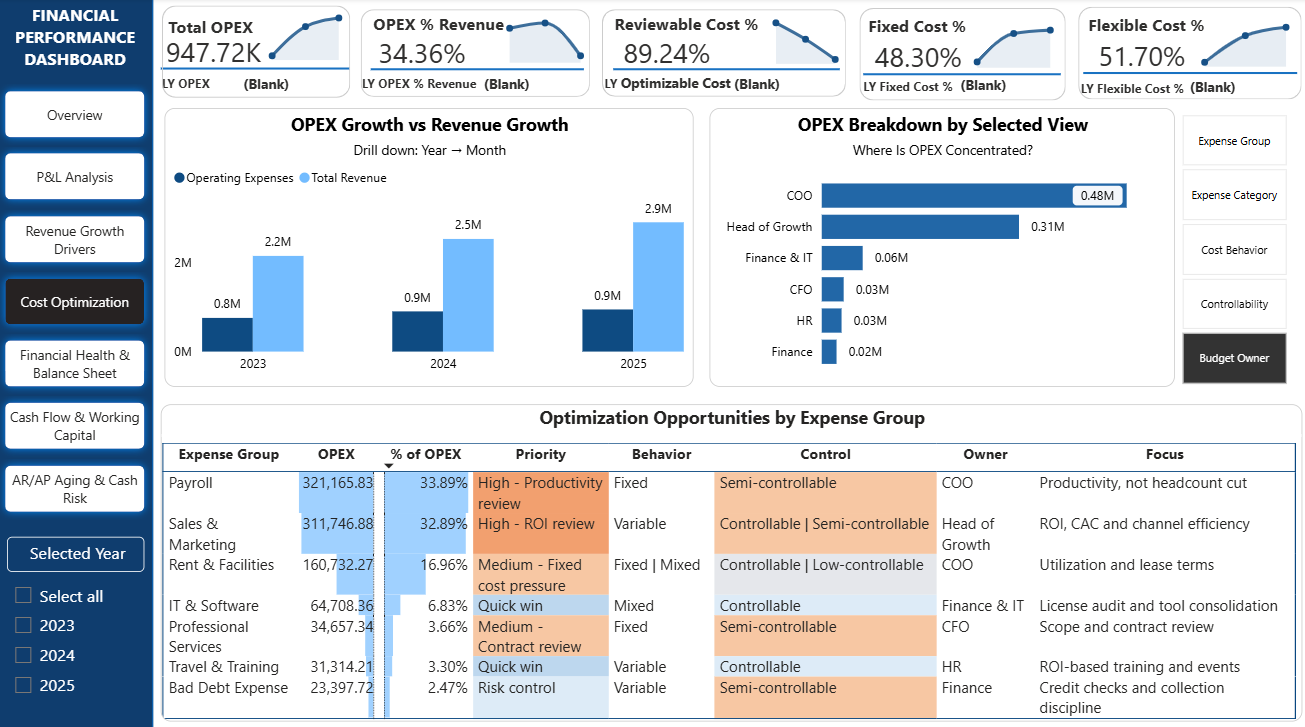

What the dashboard file says about the page in this screenshot:
{"tool":"powerbi","page":{"name":"Cost Optimization","canvas":[1280,720],"ordinal":3},"visuals":[{"type":"shape","box":[0,0,152.9,720.2],"z":0,"group":"g6"},{"type":"group","id":"g1","title":"Group 8","box":[160.2,2.4,184.6,100.3],"z":0},{"type":"textbox","box":[0,0,152.9,83.2],"z":1000,"group":"g6"},{"type":"group","id":"g2","title":"Group 8","box":[355.8,7.3,225,96.6],"z":1000},{"type":"card","fields":{"Values":["_Measures.Total OPEX Card"]},"box":[160.3,36.3,98.9,32.9],"z":1000,"group":"g7"},{"type":"card","fields":{"Values":["_Measures.OPEX % Revenue"]},"box":[357.8,39.5,110.5,31.2],"z":1000,"group":"g9"},{"type":"card","fields":{"Values":["_Measures.Controllable Cost % Card"]},"box":[593.9,39.6,117.5,31.1],"z":1000,"group":"g8"},{"type":"card","fields":{"Values":["_Measures.Flexible Cost % Card"]},"box":[1056.5,41.7,122.5,31.2],"z":1000,"group":"g10"},{"type":"card","fields":{"Values":["_Measures.Fixed Cost % Card"]},"box":[842.4,42.8,113,31.1],"z":1000,"group":"g11"},{"type":"group","id":"g3","title":"Group 8","box":[591.7,6.1,239.7,97.8],"z":2000},{"type":"textbox","box":[363,8.1,186.2,34.1],"z":2000,"group":"g9"},{"type":"textbox","box":[599.4,8.4,198,34],"z":2000,"group":"g8"},{"type":"textbox","box":[1062.2,10.4,206.3,34.1],"z":2000,"group":"g10"},{"type":"textbox","box":[847.7,11.5,190.5,34],"z":2000,"group":"g11"},{"type":"textbox","box":[163.1,11.7,160.1,32],"z":2000,"group":"g7"},{"type":"pageNavigator","box":[0,83.2,152.9,431.7],"z":2000,"group":"g6"},{"type":"group","id":"g4","title":"Group 8","box":[842.4,9.7,203.2,98.2],"z":3000},{"type":"textbox","box":[9.8,527,134.5,34.2],"z":3000,"group":"g6"},{"type":"lineChart","fields":{"Category":["Dim_Date.Year"],"Y":["_Measures.Total OPEX Card"]},"box":[253.9,2.4,90.3,58.4],"z":4000,"group":"g7"},{"type":"lineChart","fields":{"Category":["Dim_Date.Year"],"Y":["_Measures.Controllable Cost %"]},"box":[747.6,6.1,83.1,58.5],"z":4000,"group":"g8"},{"type":"lineChart","fields":{"Category":["Dim_Date.Year"],"Y":["_Measures.OPEX % Revenue"]},"box":[486.9,7.3,94.4,56.4],"z":4000,"group":"g9"},{"type":"group","id":"g5","title":"Group 8","box":[1056.5,8.6,220.1,97.8],"z":4000},{"type":"lineChart","fields":{"Category":["Dim_Date.Year"],"Y":["_Measures.Flexible Cost"]},"box":[1166.7,11.1,104.6,56.4],"z":4000,"group":"g10"},{"type":"lineChart","fields":{"Category":["Dim_Date.Year"],"Y":["_Measures.Fixed Cost %"]},"box":[944.1,12.1,96.6,56.3],"z":4000,"group":"g11"},{"type":"slicer","fields":{"Values":["Dim_Date.Year"]},"box":[9.8,569.8,134.5,150.4],"z":4000,"group":"g6"},{"type":"clusteredColumnChart","title":"OPEX Growth vs Revenue Growth","fields":{"Category":["Dim_Date.Year-Month.Variation.Date Hierarchy.Year","Dim_Date.Year-Month.Variation.Date Hierarchy.Quarter","Dim_Date.Year-Month.Variation.Date Hierarchy.Month"],"Y":["_Measures.Operating Expenses","_Measures.Total Revenue"]},"box":[163.9,107.6,517.3,272.7],"z":5000},{"type":"textbox","box":[357.6,68.4,120.7,35.6],"z":6000,"group":"g9"},{"type":"textbox","box":[593.6,68.5,128.4,35.4],"z":6000,"group":"g8"},{"type":"textbox","box":[161.4,69,108.1,32.9],"z":6000,"group":"g7"},{"type":"textbox","box":[847.1,72.5,118.6,35.5],"z":6000,"group":"g11"},{"type":"textbox","box":[1060.6,73.8,129.3,32.6],"z":6000,"group":"g10"},{"type":"slicer","fields":{"Values":["Cost Breakdown Parameter.Cost Breakdown Parameter"]},"box":[1133.6,107.6,146.7,276.4],"z":6000},{"type":"clusteredBarChart","title":"OPEX Breakdown by Selected View","fields":{"Category":["Fact_Expense.Budget Owner"],"Y":["_Measures.OPEX Breakdown Value"]},"box":[697,107.6,454.9,272.7],"z":7000},{"type":"card","fields":{"Values":["_Measures.LY Total OPEX"]},"box":[227.7,68,71.8,28.5],"z":8000,"group":"g7"},{"type":"card","fields":{"Values":["_Measures.LY OPEX % Revenue"]},"box":[454.4,68.4,87.2,29.4],"z":8000,"group":"g9"},{"type":"card","fields":{"Values":["_Measures.LY Controllable Cost %"]},"box":[696.6,68.5,92.8,29.3],"z":8000,"group":"g8"},{"type":"card","fields":{"Values":["_Measures.LY Fixed Cost %"]},"box":[933.1,70.8,63.6,25.7],"z":8000,"group":"g11"},{"type":"card","fields":{"Values":["_Measures.LY Flexible Cost %"]},"box":[1154.9,73.9,69.7,22],"z":8000,"group":"g10"},{"type":"tableEx","title":"Optimization Opportunities by Expense Group","fields":{"Values":["Fact_Expense.Expense Group","_Measures.OPEX Breakdown Value","_Measures.OPEX Contribution %","_Measures.Cost Review Priority","_Measures.Cost Behavior Display","_Measures.Controllability Display","_Measures.Budget Owner Display","_Measures.Decision Focus"]},"box":[160.2,397.4,1116.4,310.6],"z":8000},{"type":"group","id":"g6","title":"Group 1","box":[0,0,152.9,720.2],"z":9000},{"type":"card","fields":{"Values":["_Measures.Total OPEX Display"]},"box":[282.8,66.9,64.5,35.8],"z":9000,"group":"g1"},{"type":"card","fields":{"Values":["_Measures.OPEX % Revenue YoY Display"]},"box":[519,68.4,62.1,33.1],"z":9000,"group":"g2"},{"type":"card","fields":{"Values":["_Measures.Controllable Cost % Display"]},"box":[765.3,68.5,66.1,33],"z":9000,"group":"g3"},{"type":"card","fields":{"Values":["_Measures.Fixed Cost % Display"]},"box":[988.1,73.3,48.9,28.1],"z":9000,"group":"g4"},{"type":"card","fields":{"Values":["_Measures.Flexible Cost % Display"]},"box":[1214.8,77.6,52.6,23.2],"z":9000,"group":"g5"},{"type":"shape","box":[160.2,62.1,185,13.3],"z":10000,"group":"g7"},{"type":"shape","box":[365.9,65.2,208.5,9.8],"z":10000,"group":"g9"},{"type":"shape","box":[602.4,65.3,221.8,9.8],"z":10000,"group":"g8"},{"type":"shape","box":[1062,67.5,209.3,12.3],"z":10000,"group":"g10"},{"type":"shape","box":[847.5,68.4,193.2,12.2],"z":10000,"group":"g11"},{"type":"shape","box":[161.2,7.7,184.2,90.3],"z":11000,"group":"g7"},{"type":"shape","box":[1058.1,8.6,218.6,90.7],"z":11000,"group":"g10"},{"type":"shape","box":[843.8,9.7,201.8,90.5],"z":11000,"group":"g11"},{"type":"shape","box":[355.8,11.3,224.3,85.8],"z":11000,"group":"g9"},{"type":"shape","box":[591.7,11.6,238.6,85.5],"z":11000,"group":"g8"},{"type":"group","id":"g7","title":"Group 3","box":[160.2,2.4,185.2,99.4],"z":11004,"group":"g1"},{"type":"group","id":"g8","title":"Group 3","box":[591.7,6.1,238.9,97.8],"z":11004,"group":"g3"},{"type":"group","id":"g9","title":"Group 3","box":[355.8,7.3,225.5,96.7],"z":11004,"group":"g2"},{"type":"group","id":"g10","title":"Group 3","box":[1056.5,8.6,220.1,97.8],"z":11004,"group":"g5"},{"type":"group","id":"g11","title":"Group 3","box":[842.4,9.7,203.2,98.2],"z":11004,"group":"g4"}]}

Visuals, with their boxes in screenshot pixels (x1, y1, x2, y2), scaled from the page's 1280x720 canvas onto the 1305x727 screenshot:
shape: 0, 0, 156, 726
"Group 8" group: 163, 2, 352, 104
textbox: 0, 0, 156, 84
"Group 8" group: 363, 7, 592, 105
card - _Measures.Total OPEX Card: 163, 37, 264, 70
card - _Measures.OPEX % Revenue: 365, 40, 477, 71
card - _Measures.Controllable Cost % Card: 605, 40, 725, 71
card - _Measures.Flexible Cost % Card: 1077, 42, 1202, 74
card - _Measures.Fixed Cost % Card: 859, 43, 974, 75
"Group 8" group: 603, 6, 848, 105
textbox: 370, 8, 560, 43
textbox: 611, 8, 813, 43
textbox: 1083, 11, 1293, 45
textbox: 864, 12, 1058, 46
textbox: 166, 12, 330, 44
pageNavigator: 0, 84, 156, 520
"Group 8" group: 859, 10, 1066, 109
textbox: 10, 532, 147, 567
lineChart - Dim_Date.Year x _Measures.Total OPEX Card: 259, 2, 351, 61
lineChart - Dim_Date.Year x _Measures.Controllable Cost %: 762, 6, 847, 65
lineChart - Dim_Date.Year x _Measures.OPEX % Revenue: 496, 7, 593, 64
"Group 8" group: 1077, 9, 1302, 107
lineChart - Dim_Date.Year x _Measures.Flexible Cost: 1189, 11, 1296, 68
lineChart - Dim_Date.Year x _Measures.Fixed Cost %: 963, 12, 1061, 69
slicer - Dim_Date.Year: 10, 575, 147, 726
"OPEX Growth vs Revenue Growth" clusteredColumnChart: 167, 109, 695, 384
textbox: 365, 69, 488, 105
textbox: 605, 69, 736, 105
textbox: 165, 70, 275, 103
textbox: 864, 73, 985, 109
textbox: 1081, 75, 1213, 107
slicer - Cost Breakdown Parameter.Cost Breakdown Parameter: 1156, 109, 1304, 388
"OPEX Breakdown by Selected View" clusteredBarChart: 711, 109, 1174, 384
card - _Measures.LY Total OPEX: 232, 69, 305, 97
card - _Measures.LY OPEX % Revenue: 463, 69, 552, 99
card - _Measures.LY Controllable Cost %: 710, 69, 805, 99
card - _Measures.LY Fixed Cost %: 951, 71, 1016, 97
card - _Measures.LY Flexible Cost %: 1177, 75, 1249, 97
"Optimization Opportunities by Expense Group" tableEx: 163, 401, 1302, 715
"Group 1" group: 0, 0, 156, 726
card - _Measures.Total OPEX Display: 288, 68, 354, 104
card - _Measures.OPEX % Revenue YoY Display: 529, 69, 592, 102
card - _Measures.Controllable Cost % Display: 780, 69, 848, 102
card - _Measures.Fixed Cost % Display: 1007, 74, 1057, 102
card - _Measures.Flexible Cost % Display: 1239, 78, 1292, 102
shape: 163, 63, 352, 76
shape: 373, 66, 586, 76
shape: 614, 66, 840, 76
shape: 1083, 68, 1296, 81
shape: 864, 69, 1061, 81
shape: 164, 8, 352, 99
shape: 1079, 9, 1302, 100
shape: 860, 10, 1066, 101
shape: 363, 11, 591, 98
shape: 603, 12, 847, 98
"Group 3" group: 163, 2, 352, 103
"Group 3" group: 603, 6, 847, 105
"Group 3" group: 363, 7, 593, 105
"Group 3" group: 1077, 9, 1302, 107
"Group 3" group: 859, 10, 1066, 109
